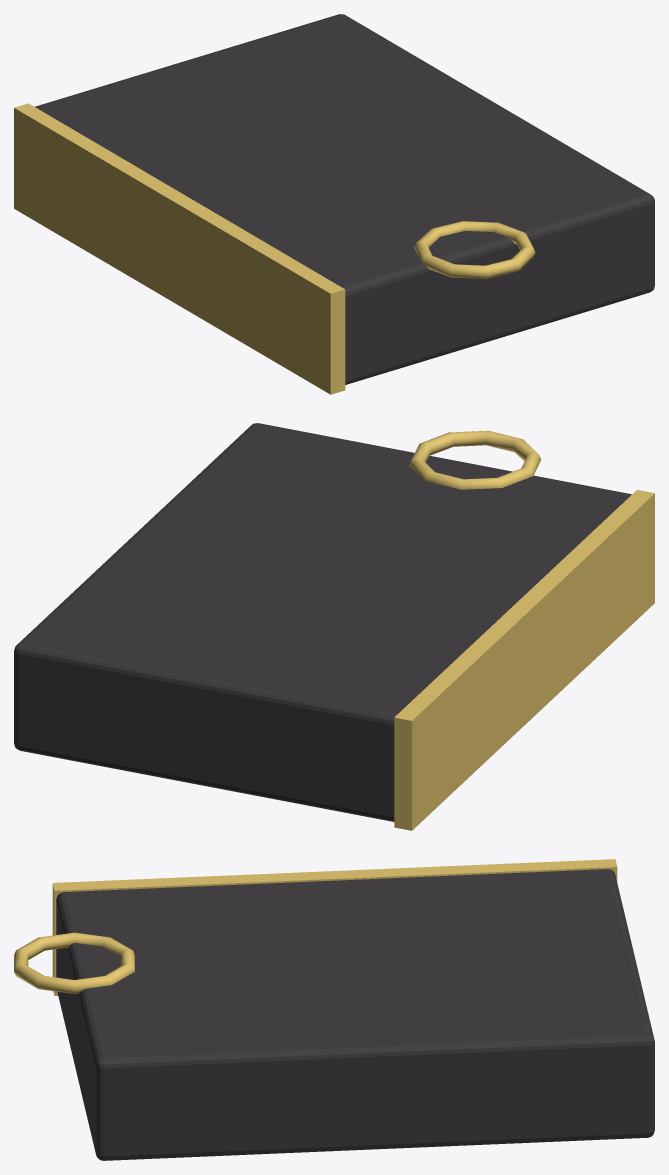
The model's file is grimoire_closed_black.glb.
The picture shows the model from 3 angles, top to bottom: view 1: azimuth 30°, elevation 25°; view 2: azimuth 150°, elevation 25°; view 3: azimuth 270°, elevation 25°; orthographic projection. The views are drawn at different scales.
Parts seen in each view (by area): view 1: GD_grimoire_closed_black__m0, GD_grimoire_closed_black__m2; view 2: GD_grimoire_closed_black__m0, GD_grimoire_closed_black__m2; view 3: GD_grimoire_closed_black__m0, GD_grimoire_closed_black__m2.
Part boxes in pixels (x1,y1,x2,y2): GD_grimoire_closed_black__m0: (35,14,654,384); GD_grimoire_closed_black__m2: (14,103,535,394); GD_grimoire_closed_black__m0: (14,423,631,821); GD_grimoire_closed_black__m2: (394,430,654,830); GD_grimoire_closed_black__m0: (56,869,654,1160); GD_grimoire_closed_black__m2: (14,859,617,995).
Bounding box in the file's own units: 0.2535 × 0.065 × 0.3422.
